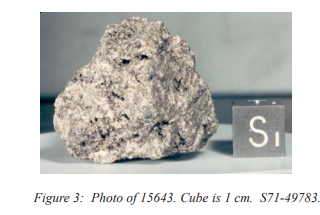Basalt: (43, 13, 221, 167)
